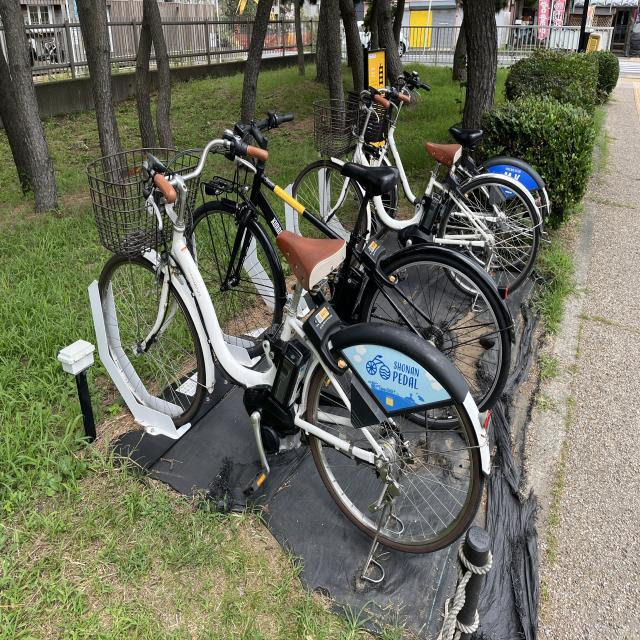basket: (85, 148, 202, 259), (310, 97, 366, 158)
battery: (270, 340, 312, 410), (336, 266, 366, 318), (422, 191, 444, 230)
